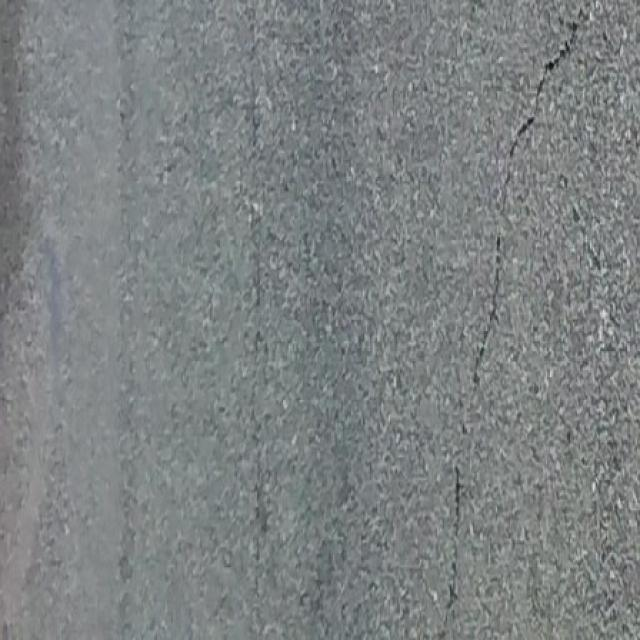Vertical Crack: (467, 0, 598, 433), (435, 464, 460, 640)
